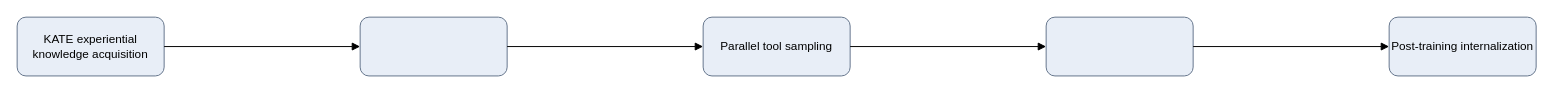
This 1553x93 diagram has some shape labels left out. Each missing label, with the centre of its shape:
Knowledge activation: [433,46]
Tool execution: [1119,46]
